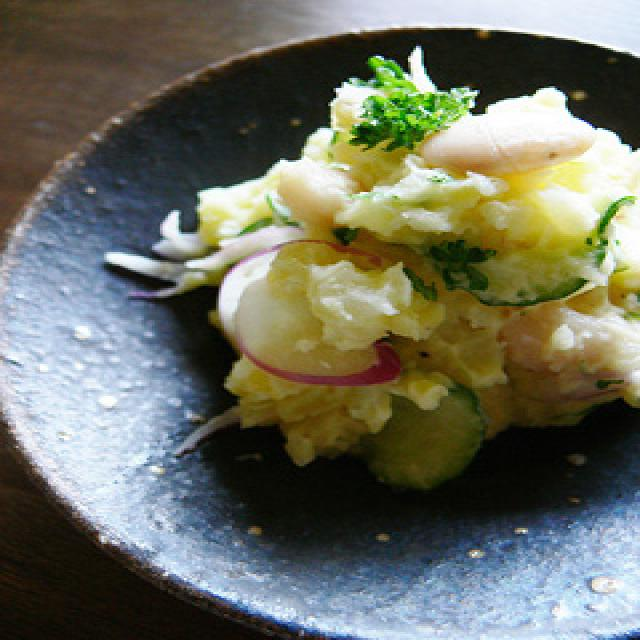蔬菜料理: (0, 12, 640, 640)
